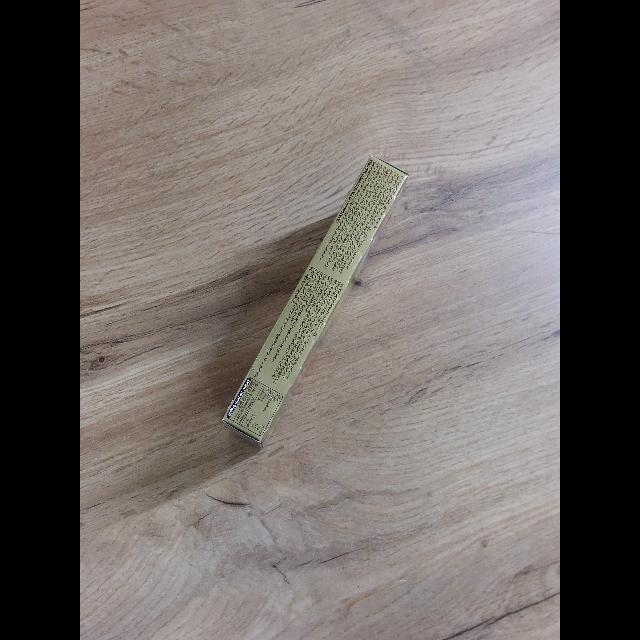banh_toppo_socola: (223, 157, 408, 444)
